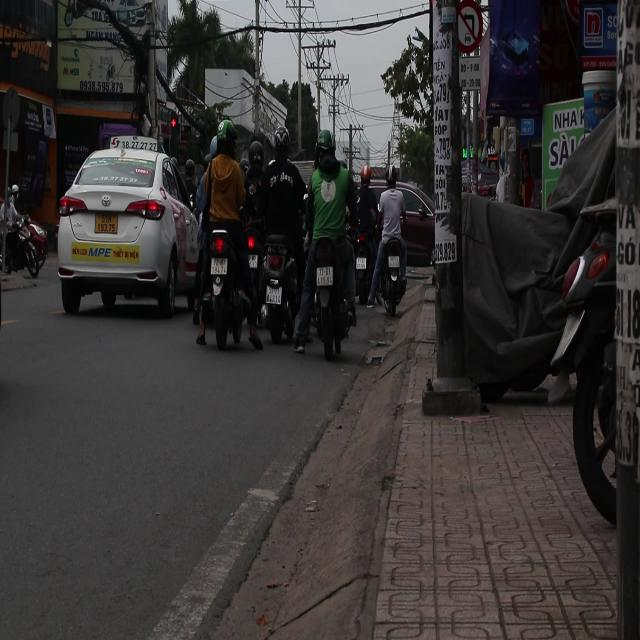car: (56, 142, 199, 316), (376, 183, 437, 268)
motorbike: (191, 212, 263, 352), (259, 227, 302, 348), (316, 232, 346, 358), (1, 214, 46, 276), (380, 238, 402, 308)
